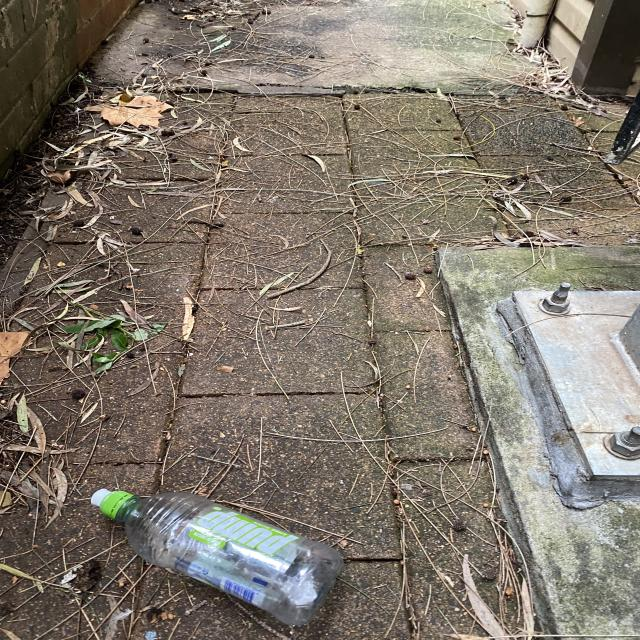bottle: (90, 487, 344, 626)
